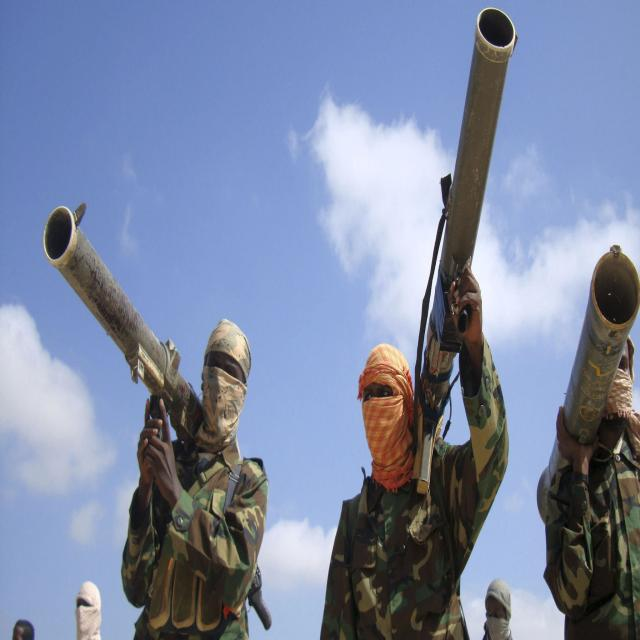bazooka: (377, 25, 524, 483), (19, 169, 236, 452), (513, 177, 640, 563)
